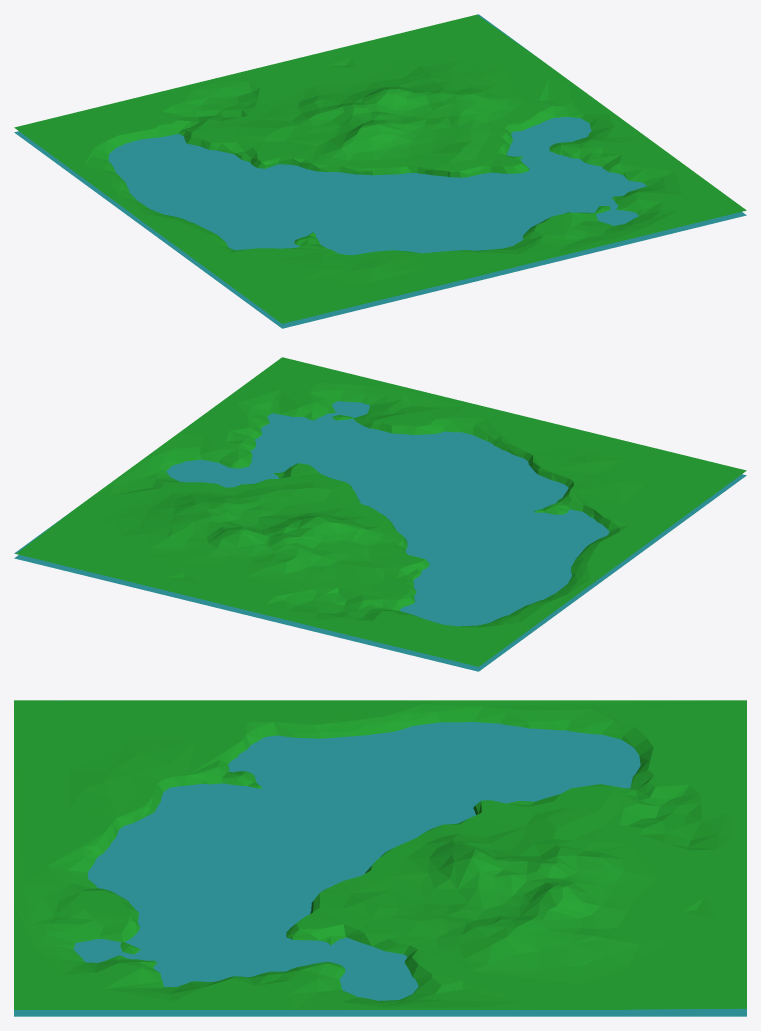
The model's file is 1River 1.fbx.
The picture shows the model from 3 angles, top to bottom: view 1: azimuth 30°, elevation 25°; view 2: azimuth 150°, elevation 25°; view 3: azimuth 270°, elevation 25°; orthographic projection. The views are drawn at different scales.
Parts seen in each view (by area): view 1: Landscape_plane.002; view 2: Landscape_plane.002; view 3: Landscape_plane.002.
Part boxes in pixels (box(x1,y1,x2,y2)): Landscape_plane.002: box(14, 14, 746, 328); Landscape_plane.002: box(14, 357, 746, 671); Landscape_plane.002: box(14, 700, 746, 1016).
Bounding box in the file's own units: 200 × 30.17 × 200.
